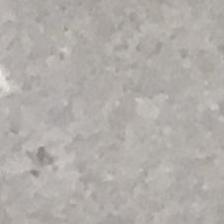Non_Crack: (25, 11, 208, 219)
